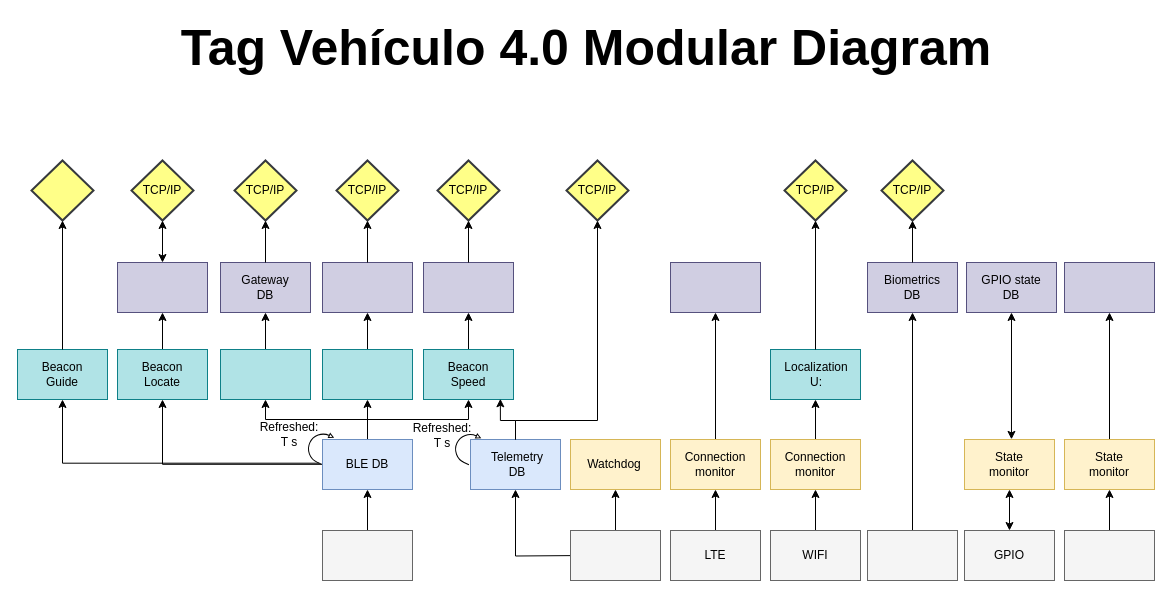
Image size: 1172x598. Some labels were removed from this diagram. Each missing label, with the box of its shape:
Beacon DB: (116, 262, 208, 312)
Beacon Speed DB: (422, 262, 514, 312)
BLE: (322, 530, 412, 580)
Classic BT: (866, 530, 958, 580)
Gateway: (220, 348, 310, 400)
HDMI: (1064, 530, 1154, 580)
HDMI state DB: (1064, 262, 1154, 312)
HOD: (322, 348, 412, 400)
HOD DB: (322, 262, 412, 312)
LTE connection DB: (670, 262, 760, 312)
MARIA DB: (570, 530, 660, 580)
Speaker: (30, 159, 94, 221)
